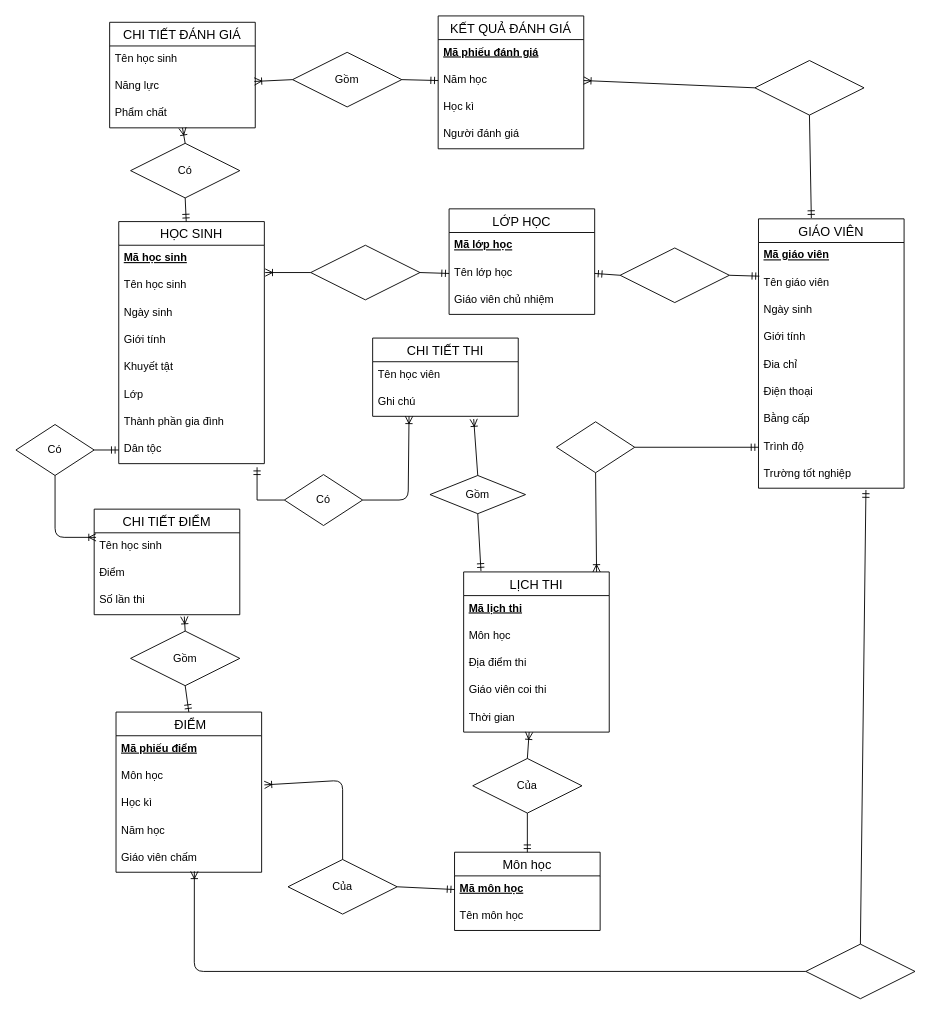
Some shapes in this 931 by 1015 pixel diagram are drawn without their labels. The centre of each missing label's shape, as x and y in pixels:
"Chấm thi" goes at pixel 860 971.
"Chủ nhiệm" goes at pixel 674 275.
"Coi thi" goes at pixel 595 447.
"THuộc" goes at pixel 365 272.
"Đánh giá" goes at pixel 809 87.
